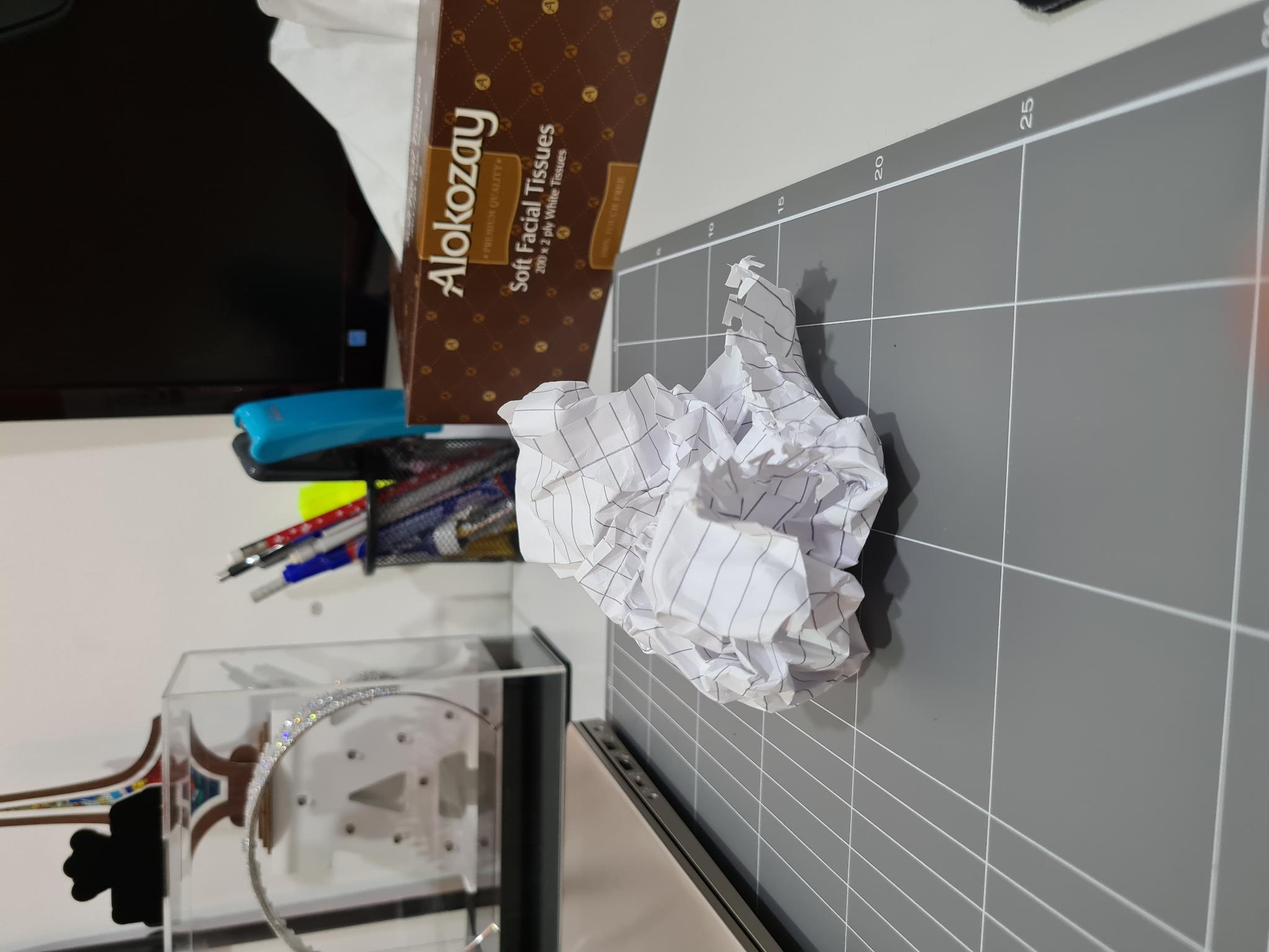Kertas: (228, 487, 702, 905)
